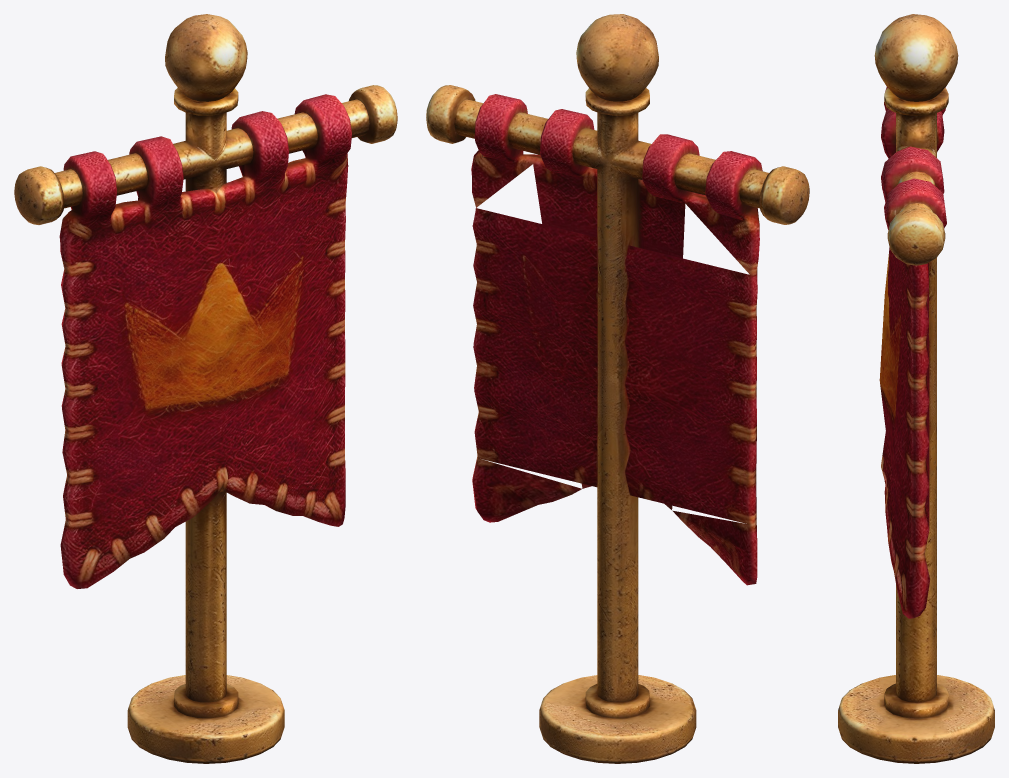
File: banner.glb
The picture shows the model from 3 angles, left to right: view 1: azimuth 30°, elevation 25°; view 2: azimuth 150°, elevation 25°; view 3: azimuth 270°, elevation 25°; orthographic projection.
Parts seen in each view (by area): view 1: tripo_9c3fc736_5b45_4657_918f_b85cd1141719; view 2: tripo_9c3fc736_5b45_4657_918f_b85cd1141719; view 3: tripo_9c3fc736_5b45_4657_918f_b85cd1141719.
Part boxes in pixels (x1,y1,x2,y2): tripo_9c3fc736_5b45_4657_918f_b85cd1141719: [14, 14, 397, 763]; tripo_9c3fc736_5b45_4657_918f_b85cd1141719: [426, 14, 809, 763]; tripo_9c3fc736_5b45_4657_918f_b85cd1141719: [838, 14, 994, 763].
Bounding box in the file's own units: 0.5405 × 0.9995 × 0.1987.
1 material, 1 textured.
